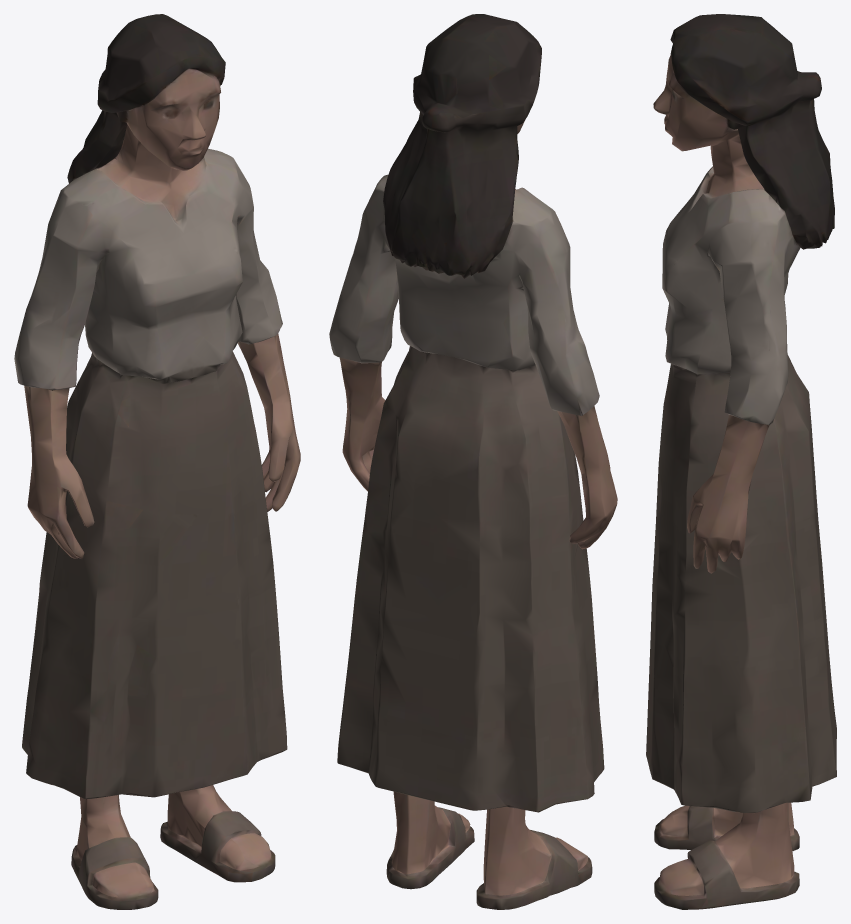
Rendered from figure_nia-frTPah6a.glb.
3 renders of one model, left to right at view 1: azimuth 30°, elevation 25°; view 2: azimuth 150°, elevation 25°; view 3: azimuth 270°, elevation 25°, orthographic.
Visible parts, largest first — view 1: geom0; view 2: geom0; view 3: geom0.
Boxes of the visible parts, left/top/right/bottom form: geom0: left=14, top=14, right=300, bottom=909; geom0: left=329, top=14, right=617, bottom=909; geom0: left=646, top=14, right=836, bottom=909.
Size of the model in its own units: 0.3246 by 1 by 0.2045.
1 material, 1 textured.
